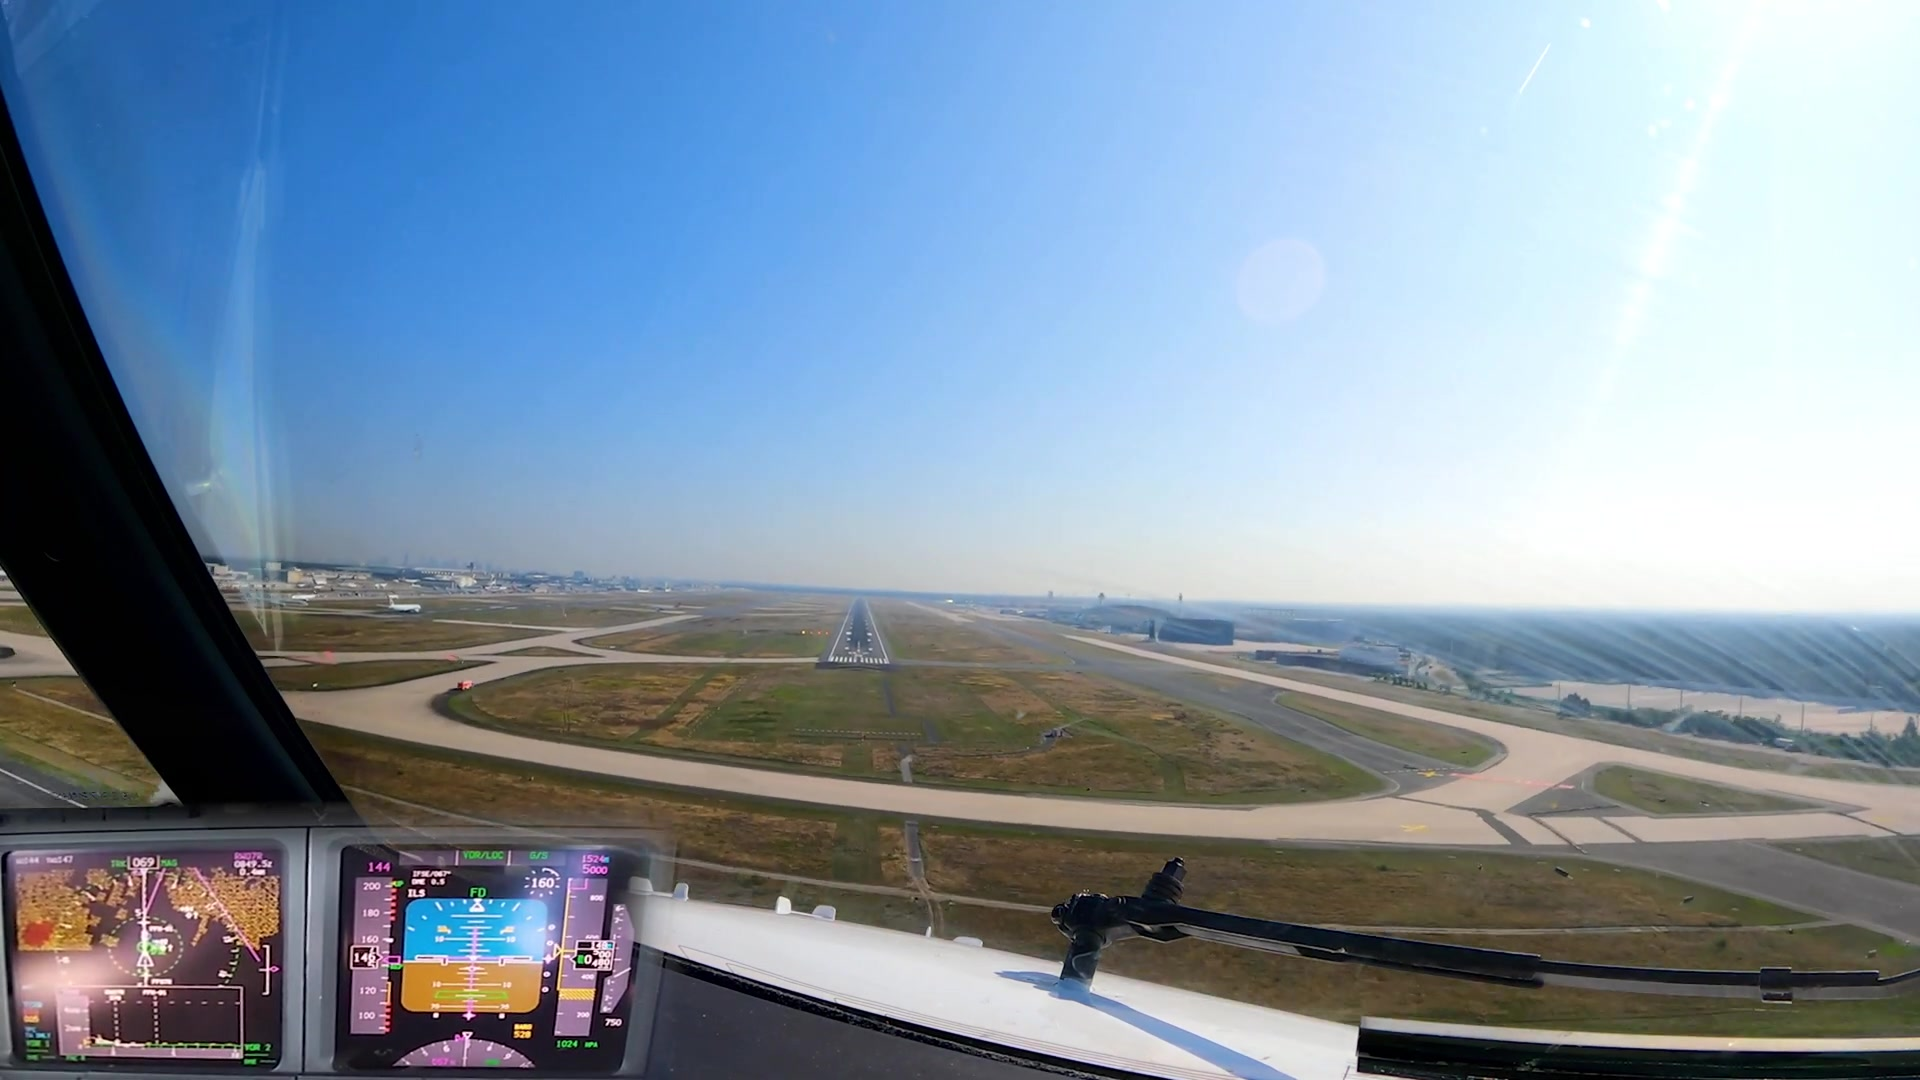entrance: (831, 655, 889, 663)
runway: (829, 597, 893, 667)
